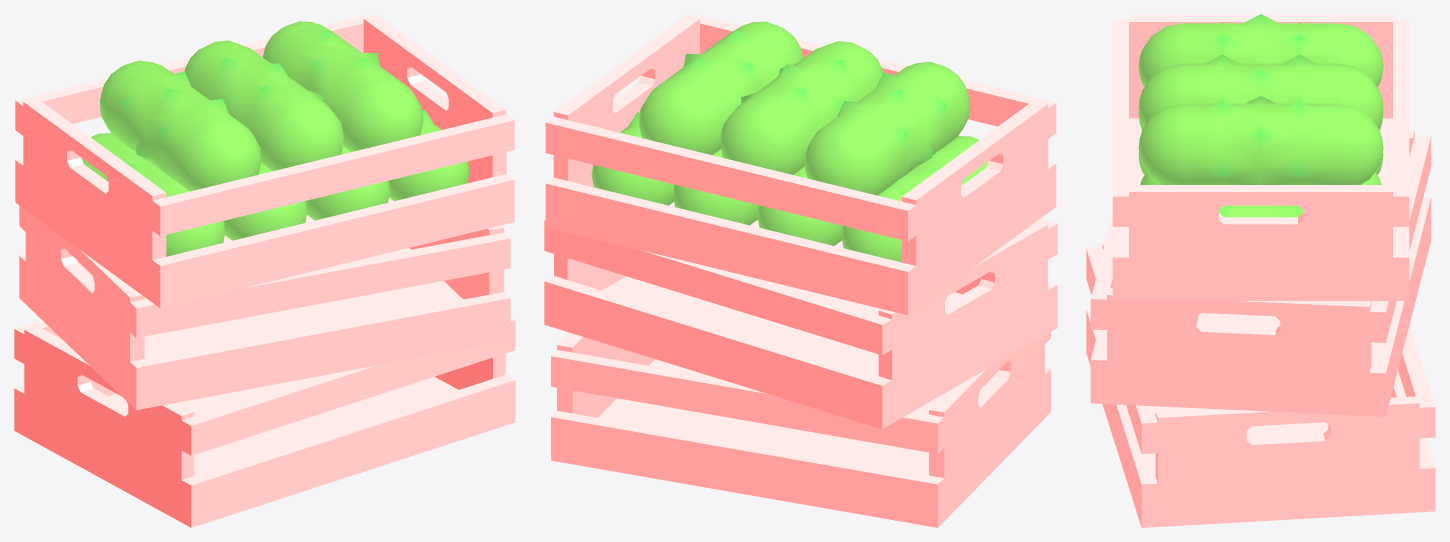
File: TempFoilProvider.fbx
The picture shows the model from 3 angles, left to right: view 1: azimuth 30°, elevation 25°; view 2: azimuth 150°, elevation 25°; view 3: azimuth 270°, elevation 25°; orthographic projection. The views are drawn at different scales.
Visible parts, largest first — view 1: Cube.006, Cube.008, Cube.007, Cucumber.007|Cucumber|Dupli|, Cucumber.006|Cucumber|Dupli|, Cucumber.005|Cucumber|Dupli|, Cucumber.004|Cucumber|Dupli|, Cucumber.001|Cucumber|Dupli|, Cucumber.003|Cucumber|Dupli|, Cucumber.002|Cucumber|Dupli|; view 2: Cube.006, Cube.007, Cube.008, Cucumber.007|Cucumber|Dupli|, Cucumber.006|Cucumber|Dupli|, Cucumber.005|Cucumber|Dupli|, Cucumber.004|Cucumber|Dupli|, Cucumber.001|Cucumber|Dupli|, Cucumber.003|Cucumber|Dupli|, Cucumber.002|Cucumber|Dupli|; view 3: Cube.006, Cube.007, Cube.008, Cucumber.005|Cucumber|Dupli|, Cucumber.006|Cucumber|Dupli|, Cucumber.007|Cucumber|Dupli|, Cucumber.001|Cucumber|Dupli|.
Boxes of the visible parts, x1=… form: Cube.006: x1=15, y1=14, x2=514, y2=308; Cube.008: x1=14, y1=318, x2=515, y2=527; Cube.007: x1=19, y1=205, x2=510, y2=410; Cucumber.007|Cucumber|Dupli|: x1=100, y1=60, x2=261, y2=191; Cucumber.006|Cucumber|Dupli|: x1=184, y1=40, x2=344, y2=171; Cucumber.005|Cucumber|Dupli|: x1=262, y1=21, x2=423, y2=151; Cucumber.004|Cucumber|Dupli|: x1=81, y1=133, x2=225, y2=256; Cucumber.001|Cucumber|Dupli|: x1=388, y1=110, x2=469, y2=201; Cucumber.003|Cucumber|Dupli|: x1=224, y1=163, x2=307, y2=240; Cucumber.002|Cucumber|Dupli|: x1=306, y1=146, x2=390, y2=220; Cube.006: x1=545, y1=14, x2=1056, y2=315; Cube.007: x1=544, y1=218, x2=1057, y2=429; Cube.008: x1=551, y1=332, x2=1050, y2=527; Cucumber.007|Cucumber|Dupli|: x1=804, y1=61, x2=969, y2=195; Cucumber.006|Cucumber|Dupli|: x1=720, y1=41, x2=883, y2=174; Cucumber.005|Cucumber|Dupli|: x1=639, y1=21, x2=803, y2=155; Cucumber.004|Cucumber|Dupli|: x1=841, y1=136, x2=988, y2=262; Cucumber.001|Cucumber|Dupli|: x1=591, y1=112, x2=674, y2=205; Cucumber.003|Cucumber|Dupli|: x1=757, y1=166, x2=842, y2=245; Cucumber.002|Cucumber|Dupli|: x1=672, y1=149, x2=758, y2=225; Cube.006: x1=1112, y1=15, x2=1409, y2=300; Cube.007: x1=1090, y1=131, x2=1431, y2=416; Cube.008: x1=1086, y1=242, x2=1435, y2=527; Cucumber.005|Cucumber|Dupli|: x1=1138, y1=96, x2=1383, y2=184; Cucumber.006|Cucumber|Dupli|: x1=1138, y1=54, x2=1383, y2=127; Cucumber.007|Cucumber|Dupli|: x1=1138, y1=14, x2=1383, y2=86; Cucumber.001|Cucumber|Dupli|: x1=1218, y1=205, x2=1303, y2=217.
Size of what is drawn, in the model's own units: 1.02 by 0.9241 by 0.788.
